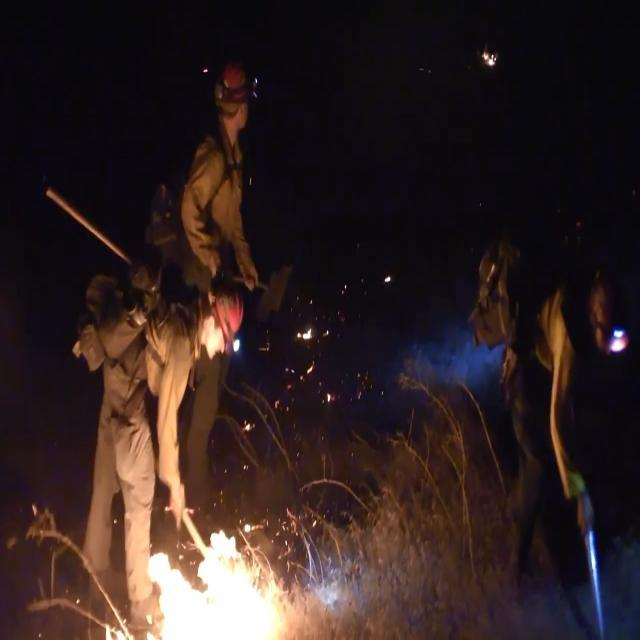Fire: (103, 534, 295, 640)
